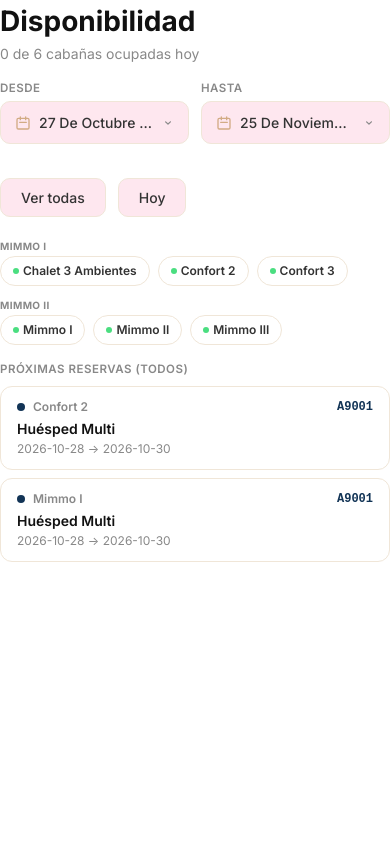
Test: Disponibilidad.jsx — "Ver todas": la barra de una reserva multi-cabaña se repite en cada fila › clickear cualquiera de las 2 instancias de la barra abre el mismo popup de la reserva
Click the 2nd text "A9001": click(355, 499) top-left (337, 491), bottom-right (373, 507)
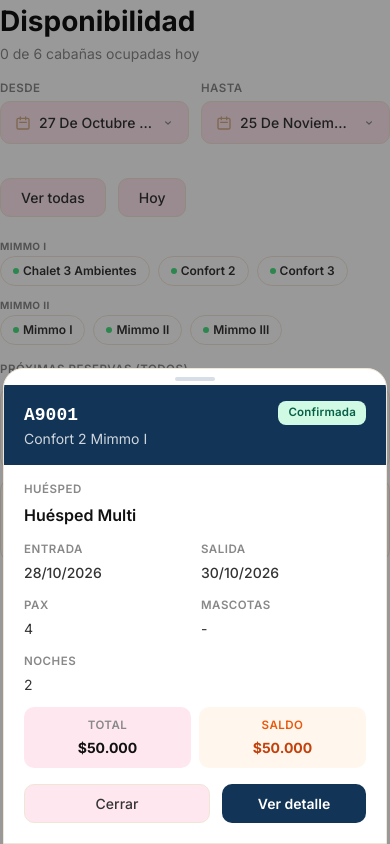
Check: the text "Huésped" is shown, box top-left (24, 482), bottom-right (82, 496)
